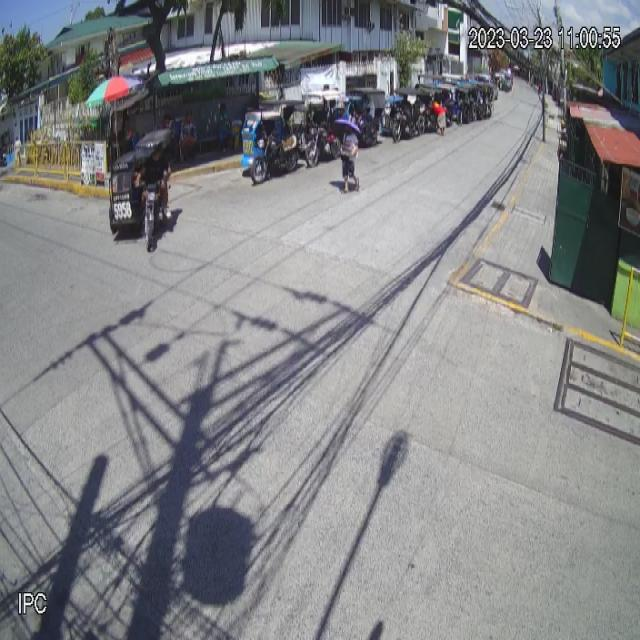Tricycle: (106, 129, 173, 253)
